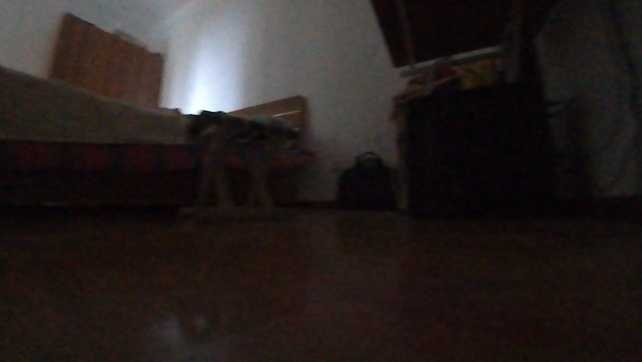toilet: (0, 62, 320, 212)
